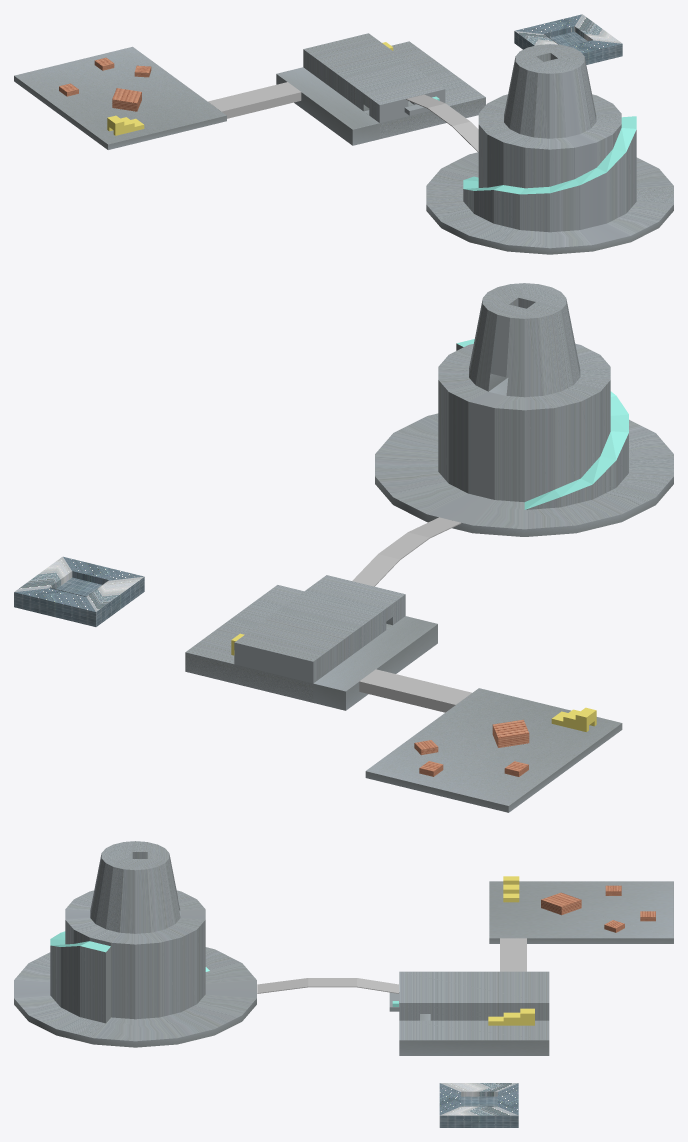
Rendered from gameStage02.fbx.
3 renders of one model, top to bottom at view 1: azimuth 30°, elevation 25°; view 2: azimuth 150°, elevation 25°; view 3: azimuth 270°, elevation 25°, orthographic. The views are drawn at different scales.
Visible parts, largest first — view 1: Ground03, Ground02, Ground01, Box002, BridgeBox01, BridgeBox02, Box01, StepBox01; view 2: Ground03, Ground02, Ground01, Box002, BridgeBox01, BridgeBox02, Box01, StepBox01; view 3: Ground03, Ground02, Ground01, Box002, BridgeBox02, BridgeBox01, Box01, StepBox02, StepBox01.
Boxes of the visible parts, left/top/right/bottom form: Ground03: left=426, top=44, right=673, bottom=254; Ground02: left=276, top=33, right=485, bottom=145; Ground01: left=14, top=46, right=226, bottom=149; Box002: left=514, top=14, right=622, bottom=64; BridgeBox01: left=208, top=82, right=301, bottom=118; BridgeBox02: left=406, top=94, right=478, bottom=151; Box01: left=112, top=88, right=141, bottom=111; StepBox01: left=107, top=115, right=144, bottom=135; Ground03: left=375, top=283, right=673, bottom=536; Ground02: left=185, top=575, right=437, bottom=710; Ground01: left=365, top=688, right=622, bottom=812; Box002: left=14, top=556, right=144, bottom=626; BridgeBox01: left=359, top=669, right=471, bottom=712; BridgeBox02: left=352, top=517, right=461, bottom=586; Box01: left=492, top=719, right=529, bottom=747; StepBox01: left=551, top=707, right=596, bottom=731; Ground03: left=14, top=841, right=256, bottom=1047; Ground02: left=389, top=971, right=549, bottom=1055; Ground01: left=489, top=881, right=673, bottom=943; Box002: left=439, top=1083, right=518, bottom=1127; BridgeBox02: left=257, top=978, right=398, bottom=993; BridgeBox01: left=500, top=938, right=526, bottom=971; Box01: left=541, top=892, right=581, bottom=915; StepBox02: left=488, top=1008, right=534, bottom=1025; StepBox01: left=503, top=876, right=519, bottom=902.
Bounding box in the file's own units: 20439 × 24346 × 6786.
Materials: 6 (6 with a texture image).
